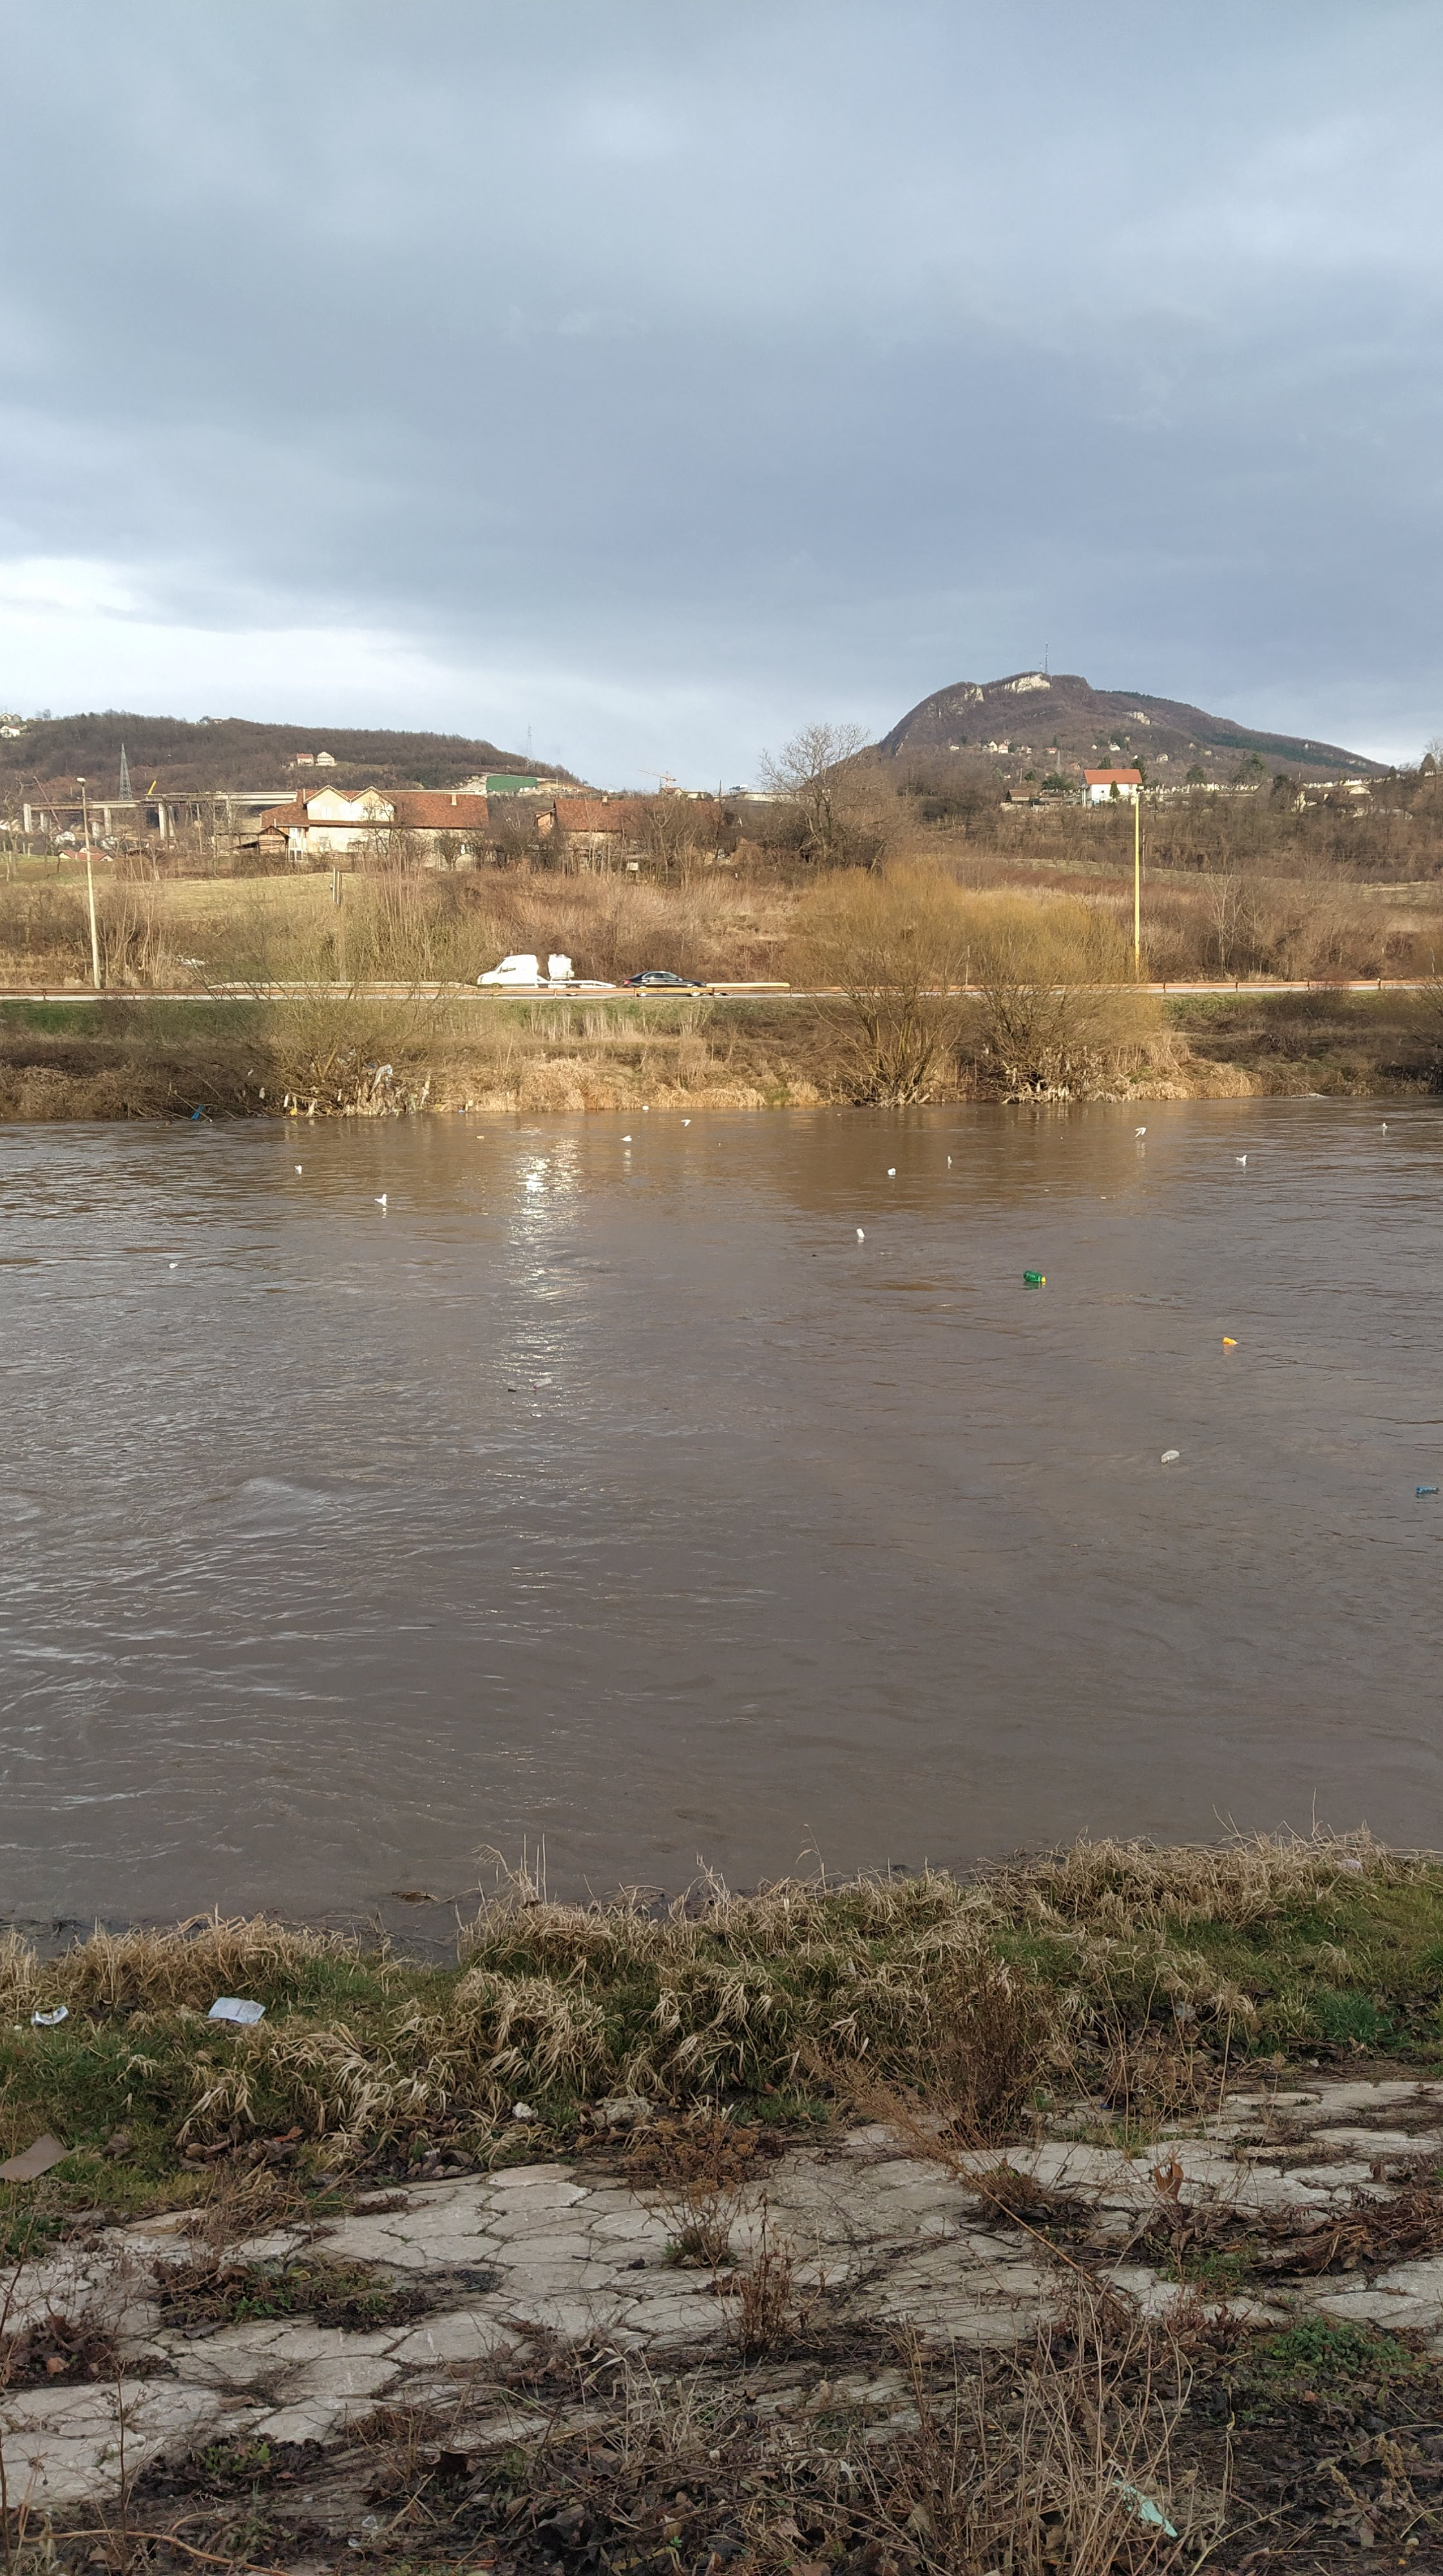Plastic Bottle: (1023, 1269, 1046, 1283), (1161, 1449, 1177, 1463), (533, 1378, 552, 1387), (1416, 1486, 1439, 1493), (1222, 1338, 1236, 1345), (857, 1228, 864, 1237), (170, 1263, 177, 1269), (889, 1168, 894, 1173), (476, 1136, 483, 1139)
